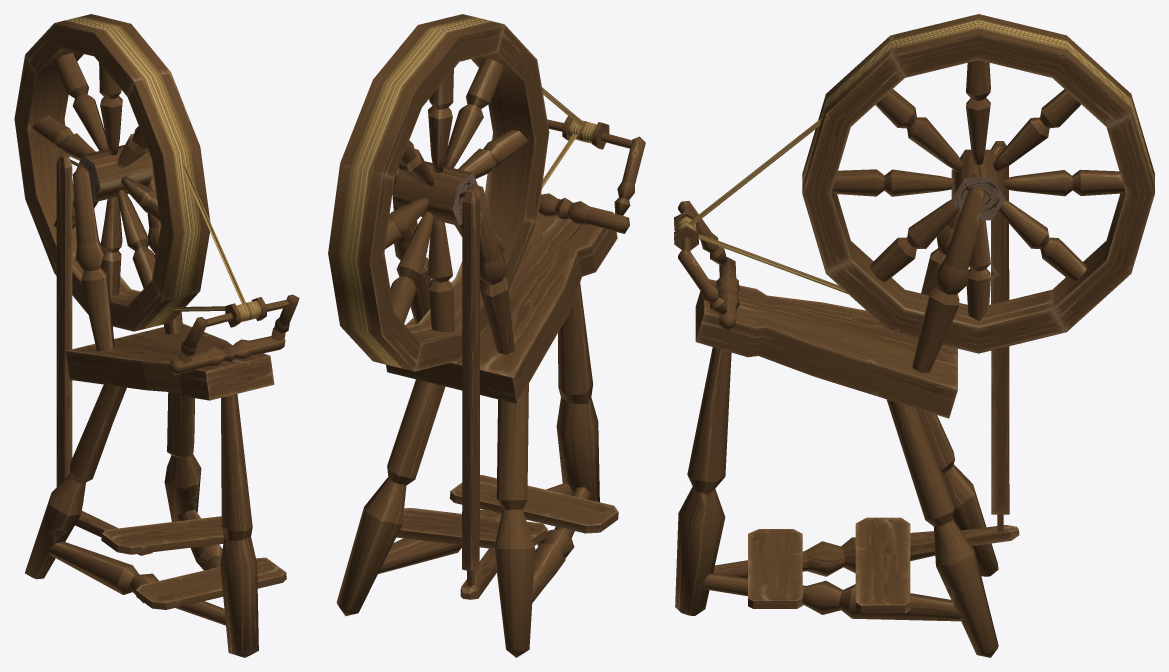
Rendered from SM_PROP_spinningwheel_base_city.fbx.
The picture shows the model from 3 angles, left to right: view 1: azimuth 30°, elevation 25°; view 2: azimuth 150°, elevation 25°; view 3: azimuth 270°, elevation 25°; orthographic projection. The views are drawn at different scales.
Parts seen in each view (by area): view 1: SM_PROP_spinningwheel_base_city, SM_PROP_spinningwheel_wheel_city; view 2: SM_PROP_spinningwheel_base_city, SM_PROP_spinningwheel_wheel_city; view 3: SM_PROP_spinningwheel_base_city, SM_PROP_spinningwheel_wheel_city.
Boxes of the visible parts, box(x1,y1,x2,y2) form: SM_PROP_spinningwheel_base_city: box(25, 150, 299, 657); SM_PROP_spinningwheel_wheel_city: box(14, 14, 210, 331); SM_PROP_spinningwheel_base_city: box(336, 87, 645, 657); SM_PROP_spinningwheel_wheel_city: box(328, 14, 549, 371); SM_PROP_spinningwheel_base_city: box(674, 118, 1019, 657); SM_PROP_spinningwheel_wheel_city: box(802, 14, 1154, 353).
Bounding box in the file's own units: 54.37 × 162 × 119.
